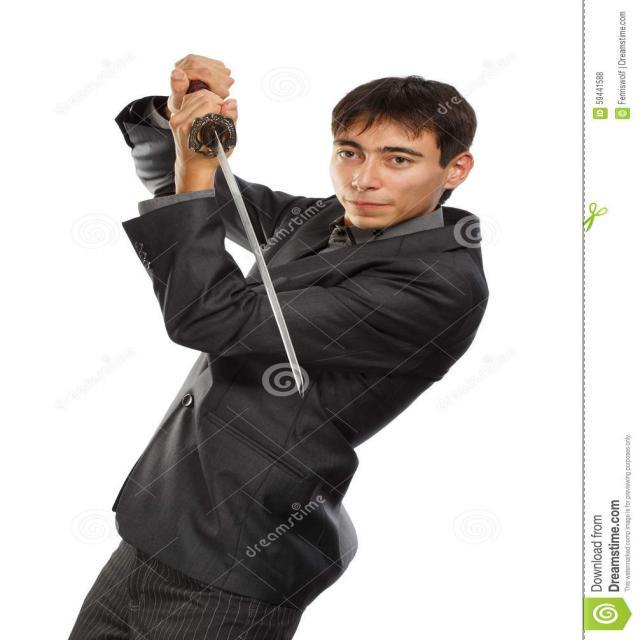long sword: (172, 48, 344, 399)
